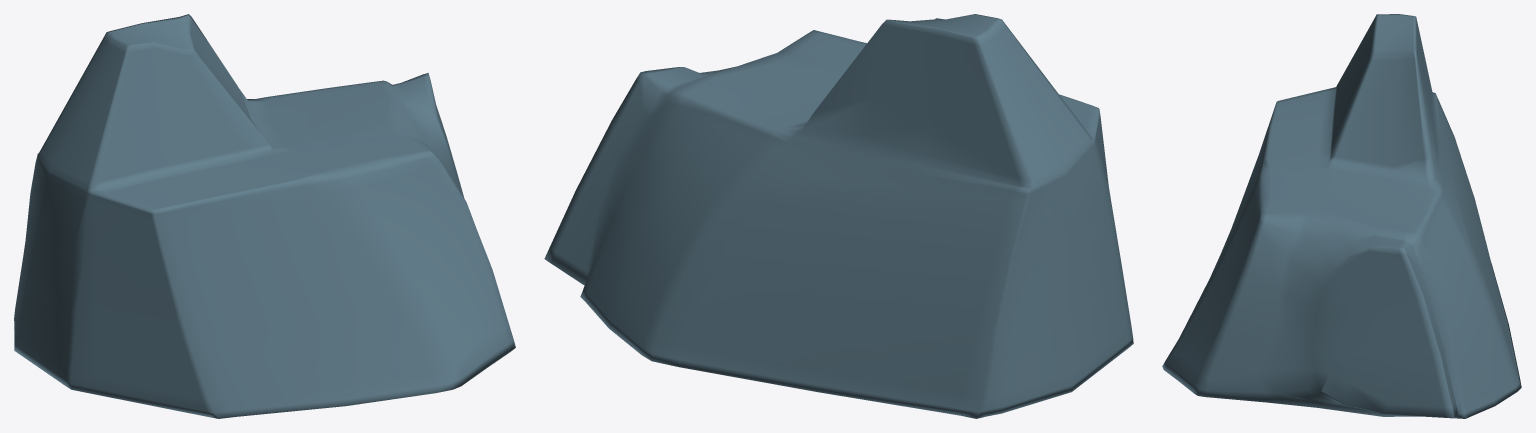
The model's file is ROCKS_SHARP_F_PRIM.fbx.
3 views of the same model, side by side, from view 1: azimuth 30°, elevation 25°; view 2: azimuth 150°, elevation 25°; view 3: azimuth 270°, elevation 25° (orthographic). The views are drawn at different scales.
Parts seen in each view (by area): view 1: ROCKSSHARPF_PRIM; view 2: ROCKSSHARPF_PRIM; view 3: ROCKSSHARPF_PRIM.
Part boxes in pixels (bbox=[...]): ROCKSSHARPF_PRIM: bbox=[14, 14, 515, 418]; ROCKSSHARPF_PRIM: bbox=[544, 14, 1133, 418]; ROCKSSHARPF_PRIM: bbox=[1162, 14, 1521, 418].
Size of the model in its own units: 21.66 by 14.2 by 16.6.
